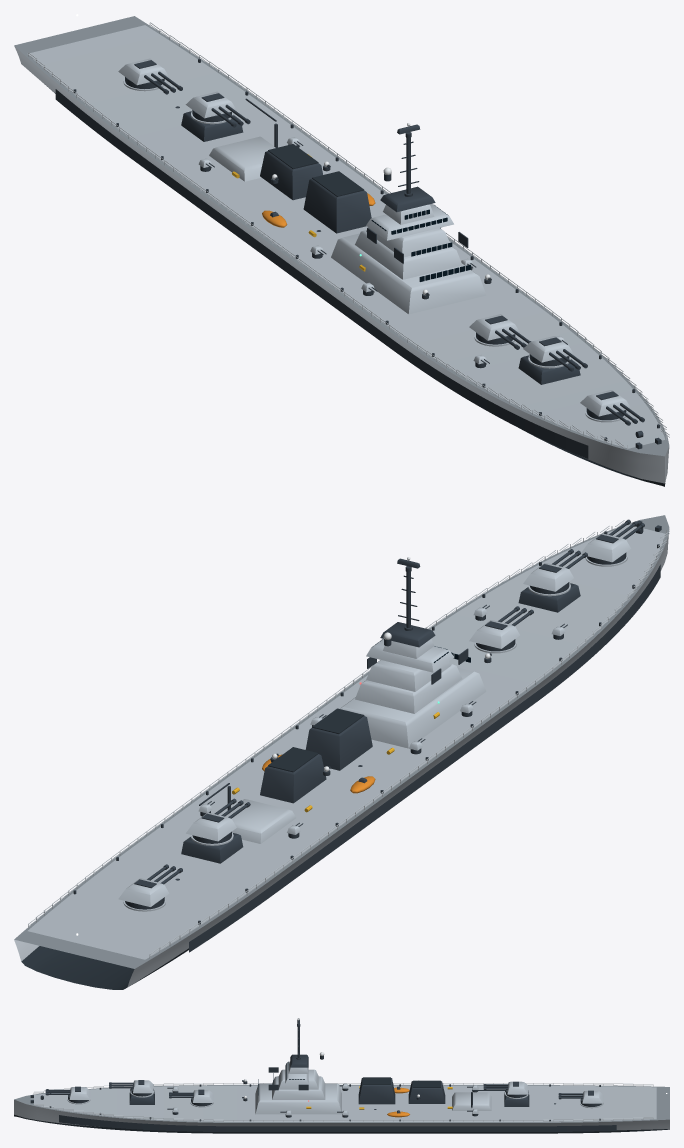
File: ship_dreadnought.glb
3 renders of one model, top to bottom at view 1: azimuth 30°, elevation 25°; view 2: azimuth 150°, elevation 25°; view 3: azimuth 270°, elevation 25°, orthographic. The views are drawn at different scales.
Visible parts, largest first — view 1: deck_plate, hull, armor_belt_stbd, deck, tower_base, rails, funnel_1, tower_t1, aft_house, funnel_2, tower_bridge, tower_t2 (+10 smaller); view 2: deck_plate, deck, armor_belt_stbd, hull, tower_base, rails, hull_under, tower_t1, funnel_1, funnel_2, aft_house, tower_t2 (+11 smaller); view 3: deck_plate, armor_belt_port, hull, rails, tower_base, deck, hull_under, funnel_1, tower_t1, aft_house, funnel_2, tower_t2 (+12 smaller).
Boxes of the visible parts, bbox=[...] form: deck_plate: bbox=[27, 25, 664, 448]; hull: bbox=[14, 46, 669, 483]; armor_belt_stbd: bbox=[55, 89, 588, 458]; deck: bbox=[14, 16, 669, 456]; tower_base: bbox=[331, 233, 486, 314]; rails: bbox=[28, 22, 669, 449]; funnel_1: bbox=[303, 179, 371, 233]; tower_t1: bbox=[355, 229, 462, 279]; aft_house: bbox=[209, 136, 275, 181]; funnel_2: bbox=[260, 151, 322, 200]; tower_bridge: bbox=[366, 204, 453, 240]; tower_t2: bbox=[366, 227, 449, 257]; deck_plate: bbox=[28, 525, 664, 959]; deck: bbox=[14, 515, 669, 968]; armor_belt_stbd: bbox=[189, 564, 660, 952]; hull: bbox=[14, 529, 669, 987]; tower_base: bbox=[340, 667, 486, 748]; rails: bbox=[28, 520, 669, 958]; hull_under: bbox=[21, 946, 188, 989]; tower_t1: bbox=[355, 664, 462, 713]; funnel_1: bbox=[305, 716, 372, 770]; funnel_2: bbox=[260, 754, 326, 803]; aft_house: bbox=[225, 799, 296, 843]; tower_t2: bbox=[366, 660, 451, 691]; deck_plate: bbox=[34, 1085, 656, 1121]; armor_belt_port: bbox=[59, 1115, 616, 1131]; hull: bbox=[14, 1099, 669, 1130]; rails: bbox=[33, 1083, 653, 1122]; tower_base: bbox=[255, 1083, 341, 1114]; deck: bbox=[14, 1085, 669, 1122]; hull_under: bbox=[14, 1114, 669, 1133]; funnel_1: bbox=[358, 1078, 395, 1104]; tower_t1: bbox=[272, 1076, 325, 1099]; aft_house: bbox=[452, 1092, 491, 1110]; funnel_2: bbox=[408, 1081, 445, 1103]; tower_t2: bbox=[278, 1069, 318, 1089].
Size of the model in its own units: 5.43 by 6.98 by 39.4.
